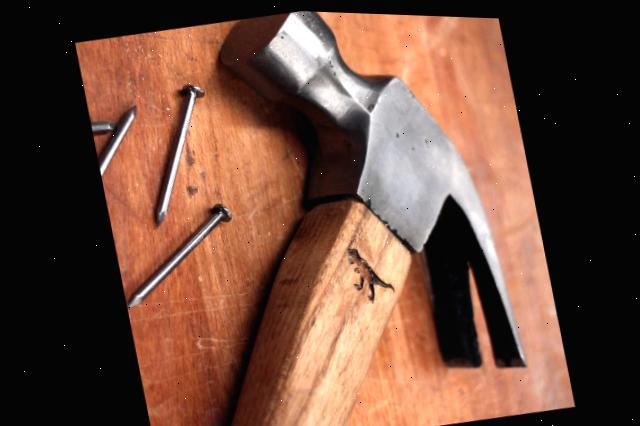hammer: (73, 2, 541, 426)
